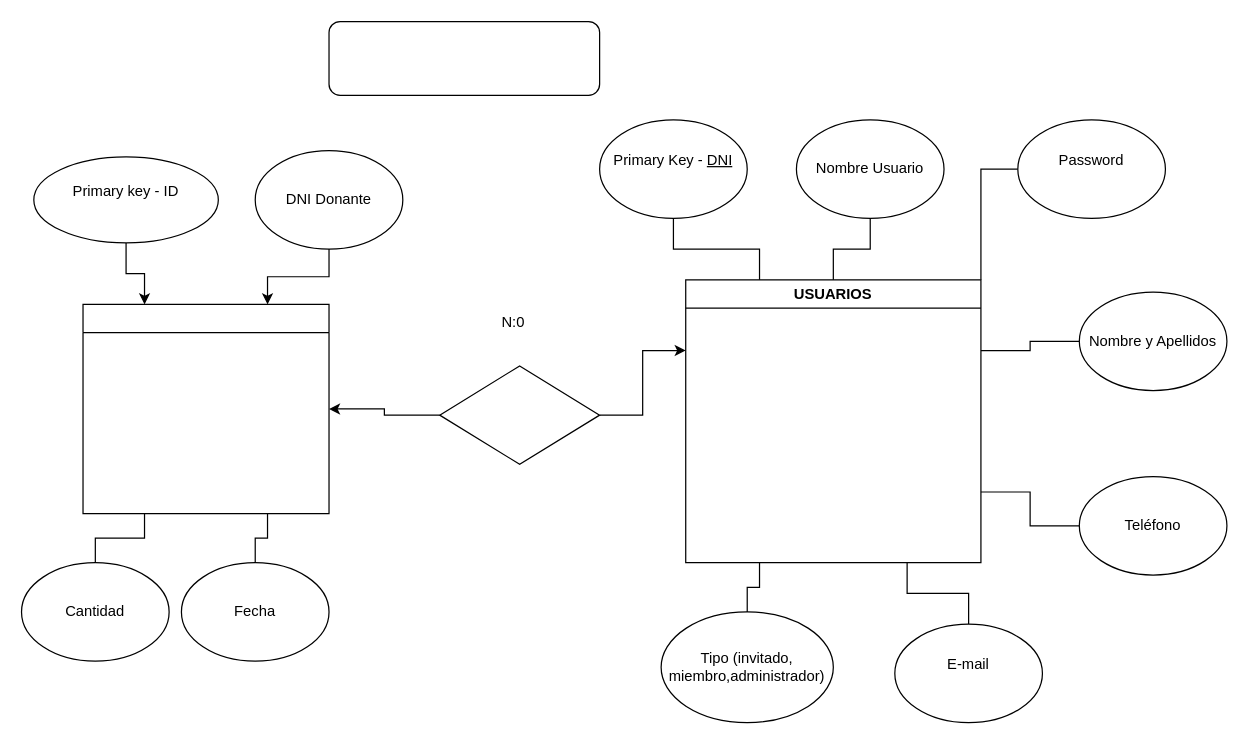
This 1248x744 diagram has some shape labels left out. Here are the shapes that lost their labels. From the top down, the centre of each, then its label:
At point 464,57: "ENTIDAD RELACIÓN".
At point 205,408: "DONACIONES".
At point 519,414: "Hacer Donación".
